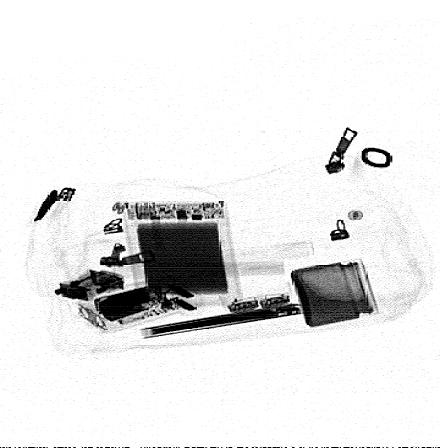Powerbank: (120, 199, 242, 303)
